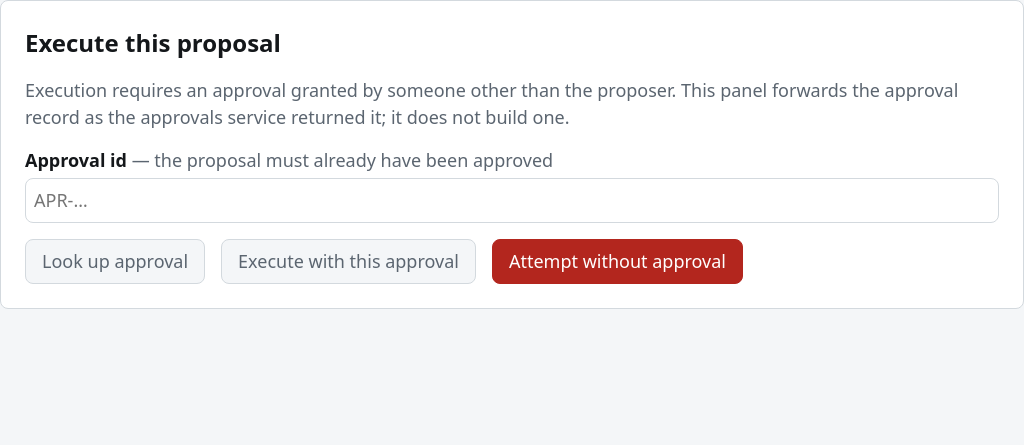
Test: ExecutionPanel › reports a failed lookup instead of proceeding without the record
Type "APR-1" into the field at (512, 200), box [25,178,999,223]
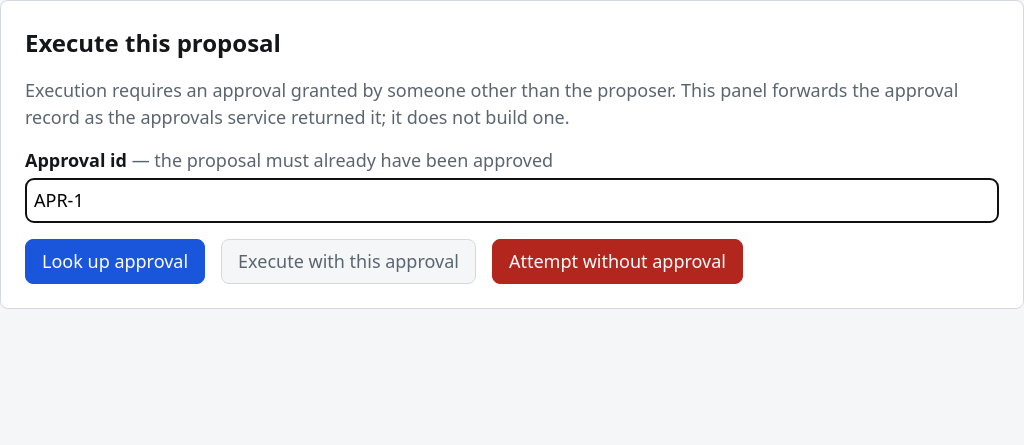
Click the button "Look up approval" at (115, 262), box [25,239,205,284]
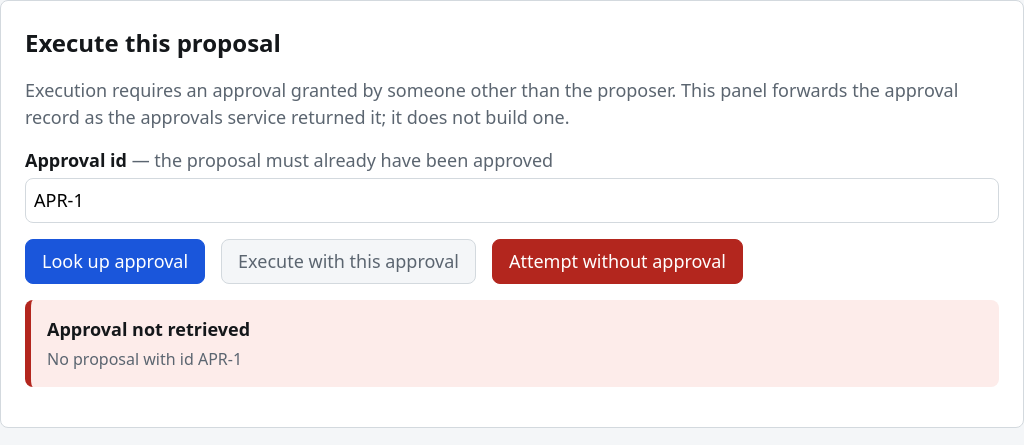
Check: the button "Execute with this approval" is disabled, box [221,239,476,284]
Check: the text "No proposal with id APR-1" is shown, box [47,348,242,370]
